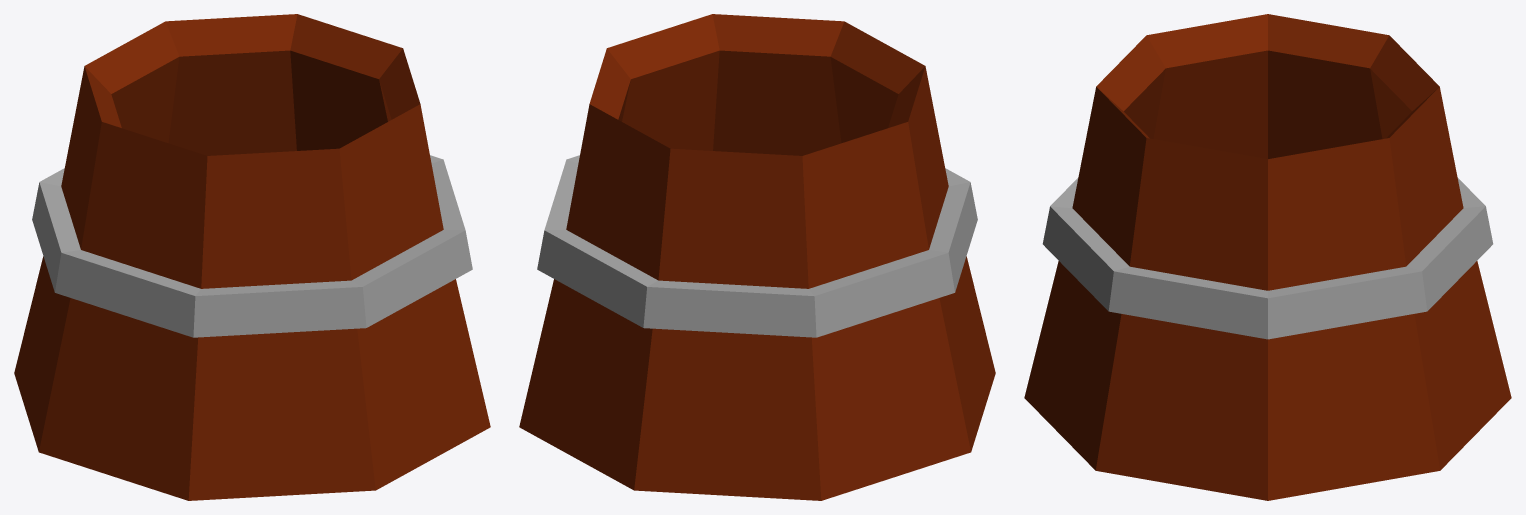
The model's file is Barril.fbx.
3 renders of one model, left to right at view 1: azimuth 30°, elevation 25°; view 2: azimuth 150°, elevation 25°; view 3: azimuth 270°, elevation 25°, orthographic.
Parts seen in each view (by area): view 1: Barril; view 2: Barril; view 3: Barril.
Part boxes in pixels (x1,y1,x2,y2): Barril: (14, 14, 490, 500); Barril: (519, 14, 995, 500); Barril: (1024, 14, 1511, 500).
Bounding box in the file's own units: 79.78 × 56.25 × 79.78.
